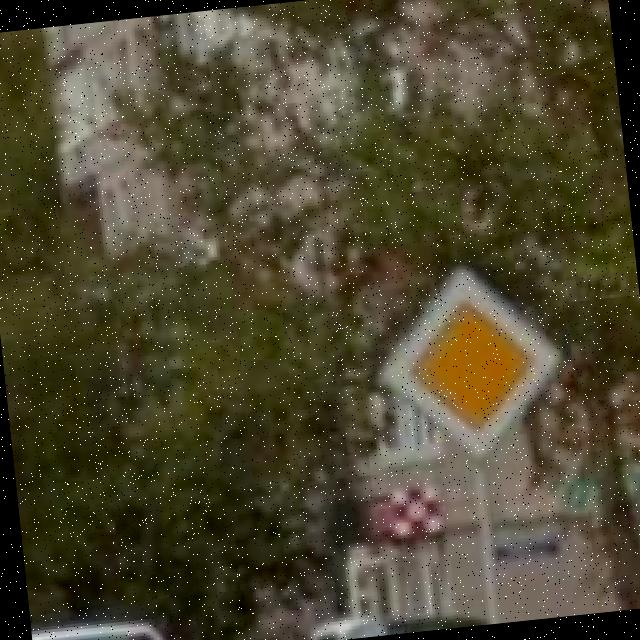Droga z pierwszenstwem: (367, 250, 572, 472)
